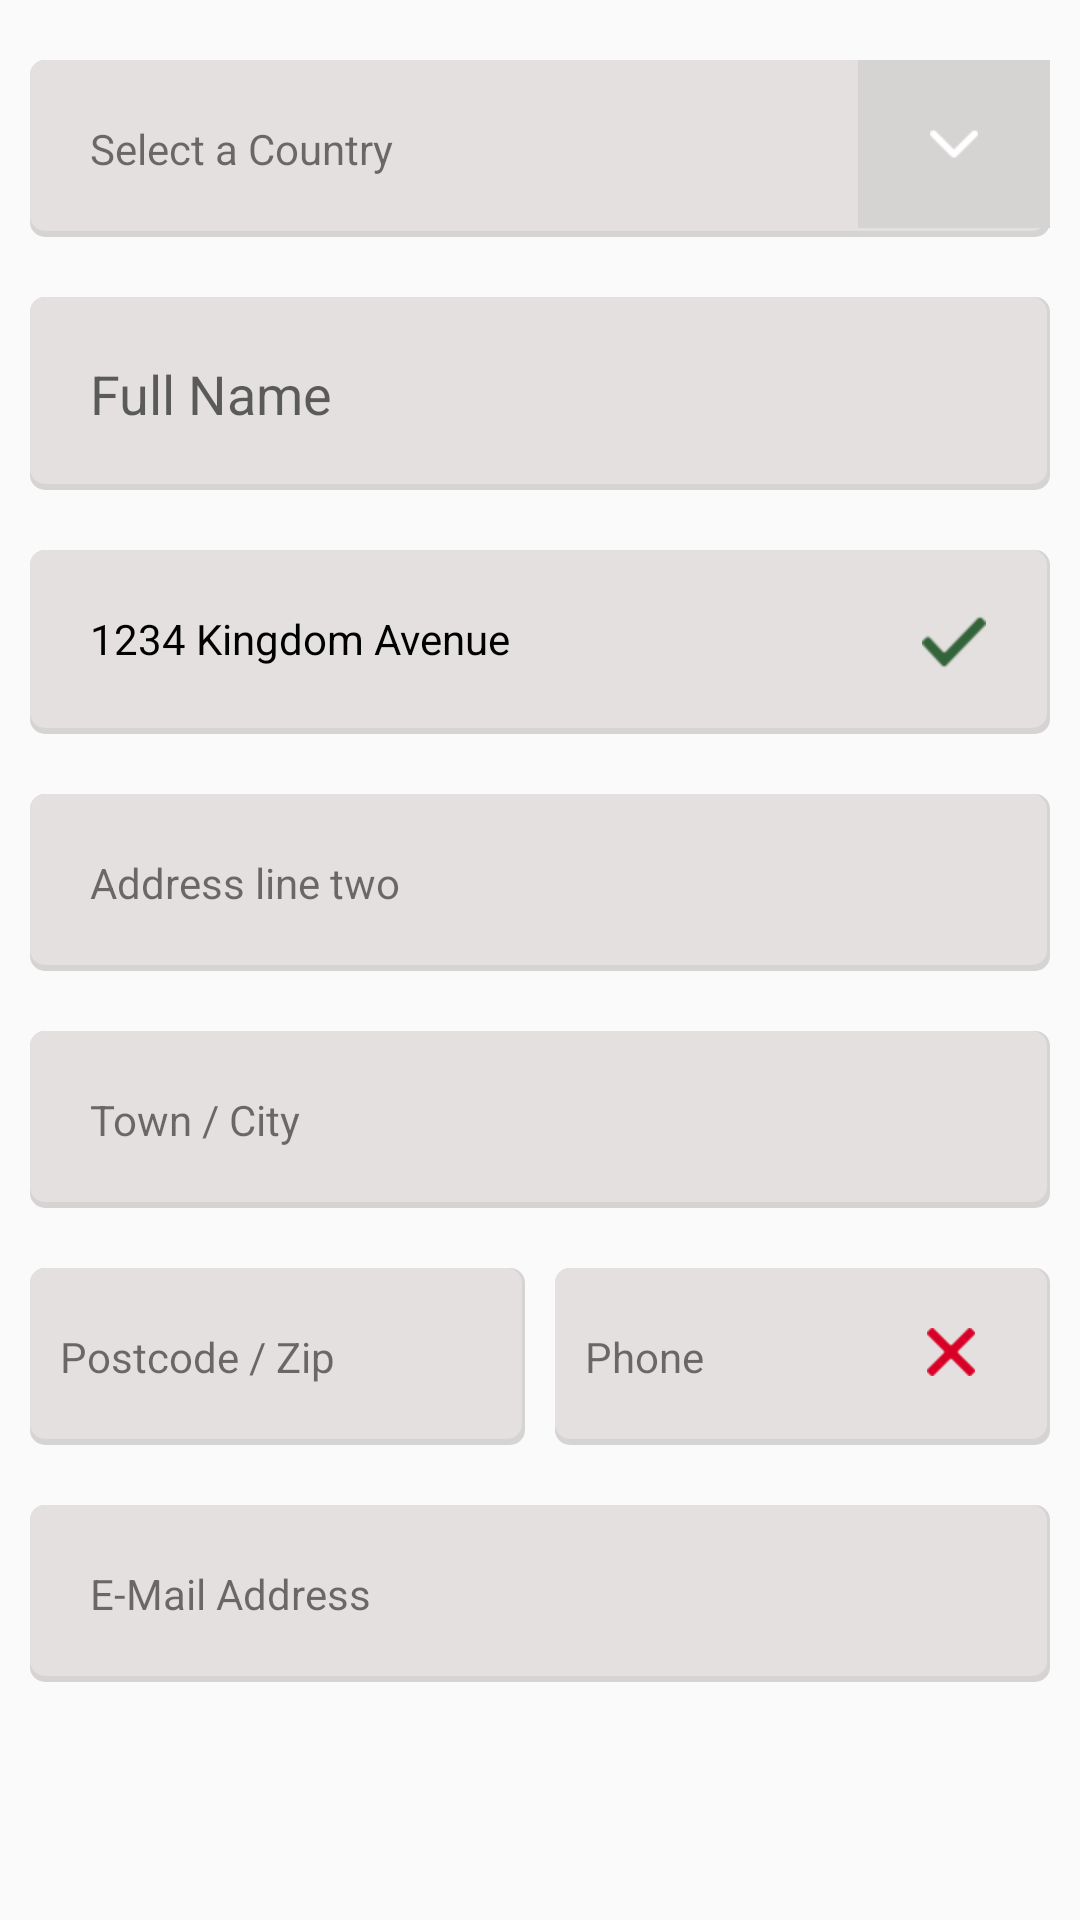

Icons on this 1080w x 1920h Android screen, each with the point to tap as (x=x, y=y):
cross: (x=951, y=1352)
down arrow: (x=954, y=144)
tick: (x=954, y=642)
